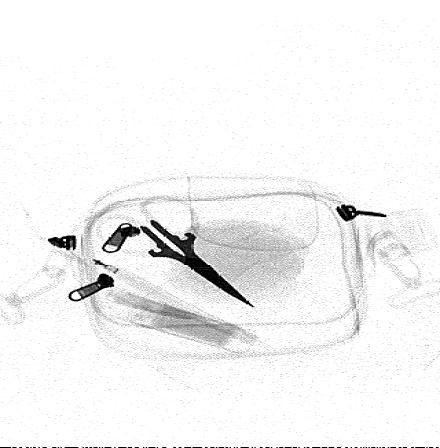Scissors: (92, 192, 261, 310)
